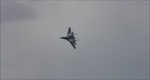maybay_muctieu: (59, 27, 78, 52)
